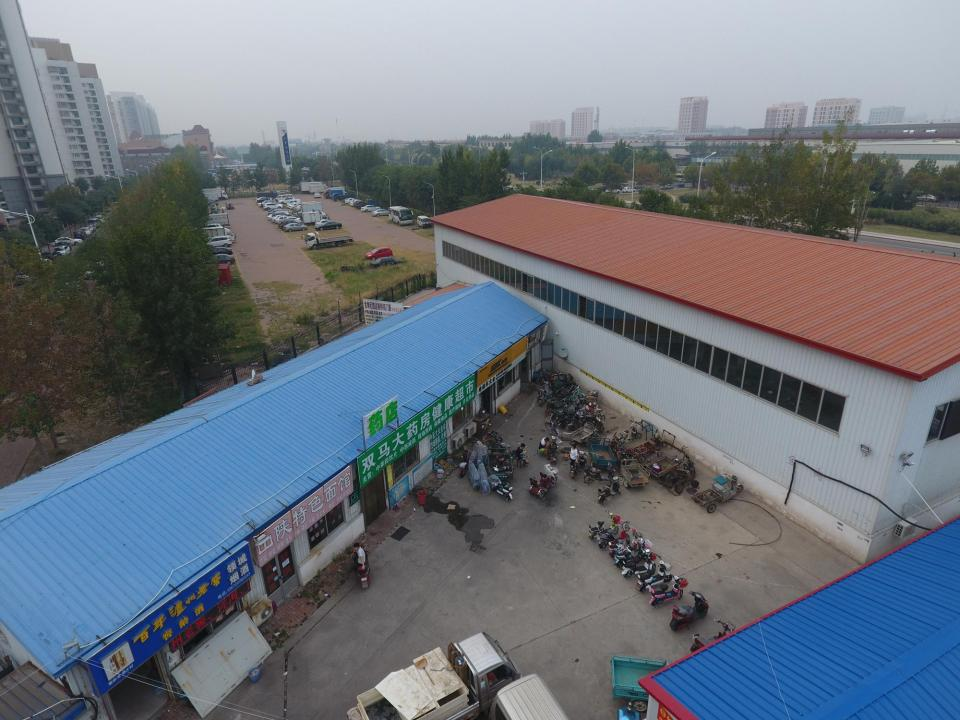bus: (388, 206, 414, 226)
car: (196, 253, 236, 268), (193, 247, 233, 260), (369, 257, 411, 268), (199, 235, 232, 248), (366, 246, 394, 260), (315, 220, 343, 230), (267, 212, 294, 221), (200, 223, 224, 233), (268, 209, 294, 218), (268, 207, 294, 216), (278, 218, 303, 227), (283, 223, 307, 232), (270, 214, 296, 222), (269, 211, 295, 219), (280, 221, 305, 229), (280, 217, 305, 225), (274, 216, 299, 224), (262, 203, 284, 210), (371, 209, 390, 217), (286, 202, 304, 210), (279, 196, 297, 204), (361, 205, 381, 212), (258, 200, 279, 206), (289, 203, 307, 210), (349, 200, 367, 207), (287, 198, 302, 206), (255, 197, 277, 202), (347, 199, 365, 205), (344, 198, 358, 204), (313, 192, 320, 198)
truck: (353, 631, 520, 720), (300, 231, 354, 250), (198, 226, 237, 243), (196, 212, 230, 229), (301, 209, 331, 226), (294, 202, 324, 218), (300, 182, 328, 194), (324, 186, 346, 199), (353, 198, 376, 210), (328, 188, 348, 199), (331, 193, 355, 202), (255, 190, 278, 199), (308, 185, 330, 194)
van: (487, 671, 574, 720), (417, 215, 431, 228), (275, 194, 294, 202)
